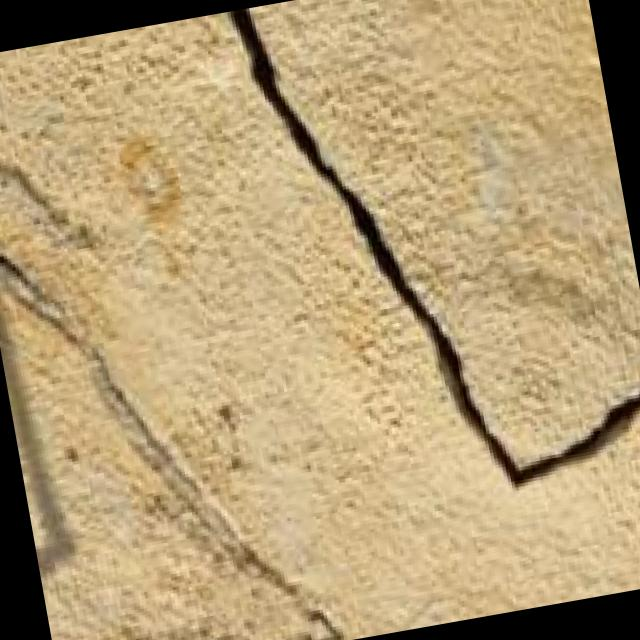crack: (179, 0, 640, 597)
